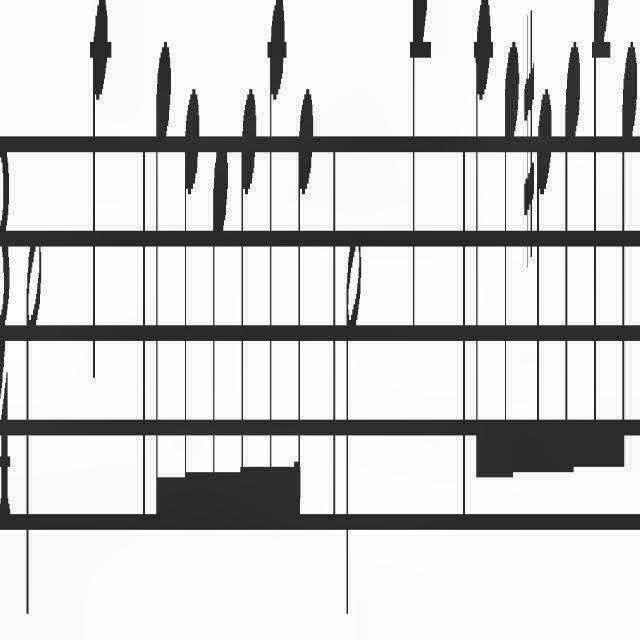Diez: (524, 10, 536, 274)
Eighth-note: (264, 0, 286, 546), (614, 35, 638, 489), (591, 0, 611, 476), (562, 29, 582, 501), (154, 23, 172, 529), (294, 84, 314, 538), (500, 41, 520, 492), (473, 0, 491, 492), (239, 75, 257, 541), (181, 81, 199, 541), (210, 131, 228, 545), (536, 78, 552, 504)
Half-note: (344, 217, 364, 627), (26, 214, 42, 634)
Quarter-note: (90, 1, 110, 383), (410, 0, 428, 330)
